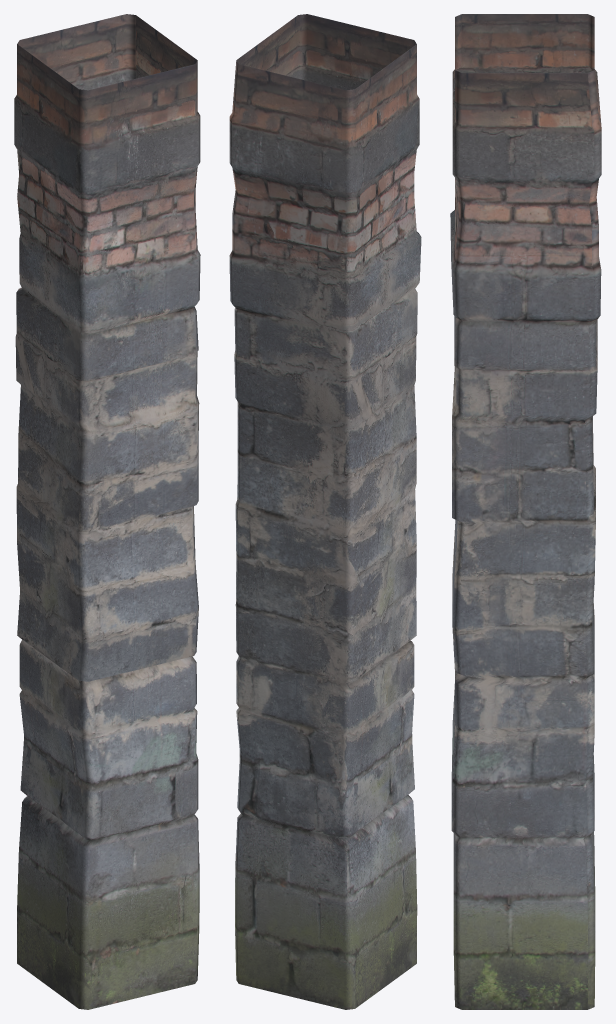
File: sm_Wall_06_32_Column.fbx
3 views of the same model, side by side, from view 1: azimuth 30°, elevation 25°; view 2: azimuth 150°, elevation 25°; view 3: azimuth 270°, elevation 25° (orthographic).
Visible parts, largest first — view 1: sm_Wall_06_32_Column_LOD0; view 2: sm_Wall_06_32_Column_LOD0; view 3: sm_Wall_06_32_Column_LOD0.
Part boxes in pixels (bbox=[...]): sm_Wall_06_32_Column_LOD0: bbox=[14, 14, 200, 1009]; sm_Wall_06_32_Column_LOD0: bbox=[229, 14, 421, 1009]; sm_Wall_06_32_Column_LOD0: bbox=[450, 14, 601, 1009].
Size of the model in its own units: 54.09 by 52.66 by 370.
